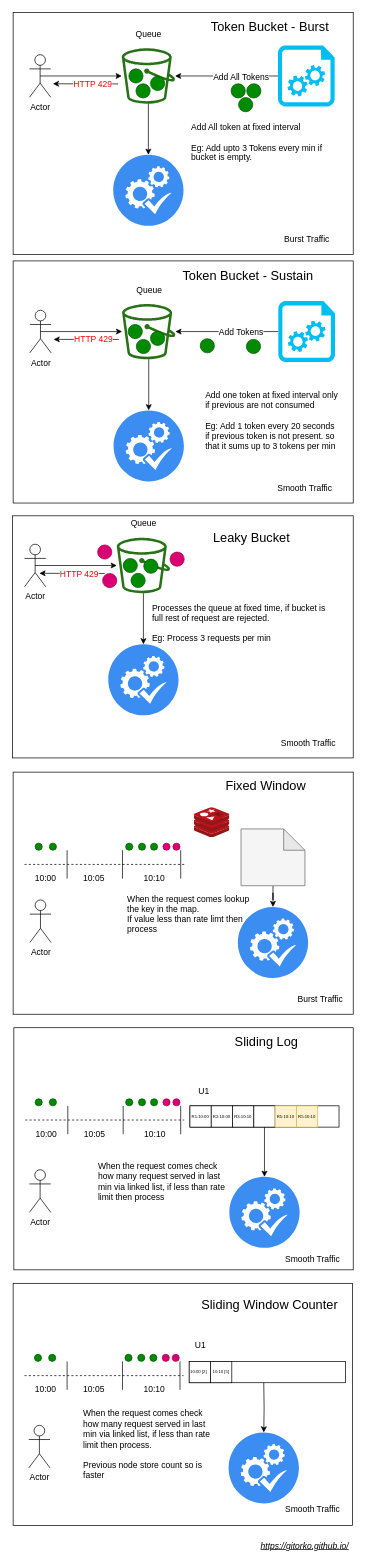
Some shapes in this 370 by 1566 pixel diagram are drawn without their labels. Each missing label, with the centre of its shape:
"Key: Value U1_10:00 - 2 U1_10:05 - 5" belongs at [272,857].
"R4:10:10" belongs at [264,1116].
